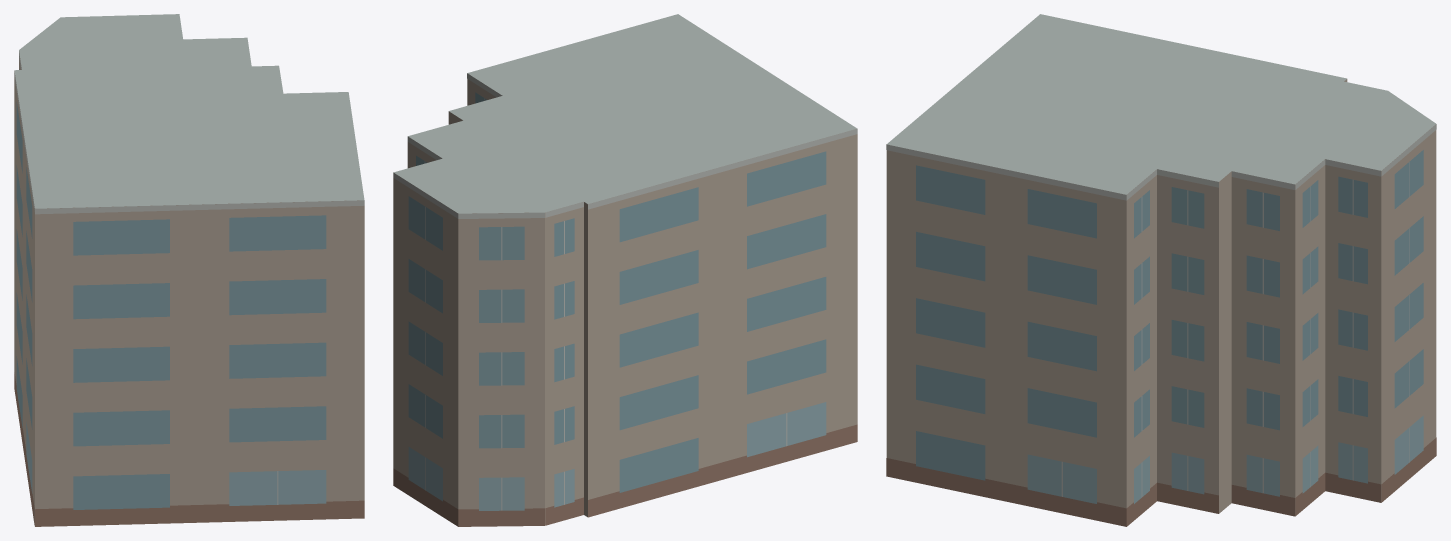
The model's file is survey-upis-32927511.glb.
The picture shows the model from 3 angles, left to right: view 1: azimuth 30°, elevation 25°; view 2: azimuth 150°, elevation 25°; view 3: azimuth 270°, elevation 25°; orthographic projection. The views are drawn at different scales.
Visible parts, largest first — view 1: survey-upis-32927511.tmp; view 2: survey-upis-32927511.tmp; view 3: survey-upis-32927511.tmp.
Part boxes in pixels (bbox=[...]): survey-upis-32927511.tmp: bbox=[14, 14, 364, 526]; survey-upis-32927511.tmp: bbox=[393, 14, 857, 526]; survey-upis-32927511.tmp: bbox=[886, 14, 1436, 526].
Size of the model in its own units: 16.42 by 14.05 by 21.1.
